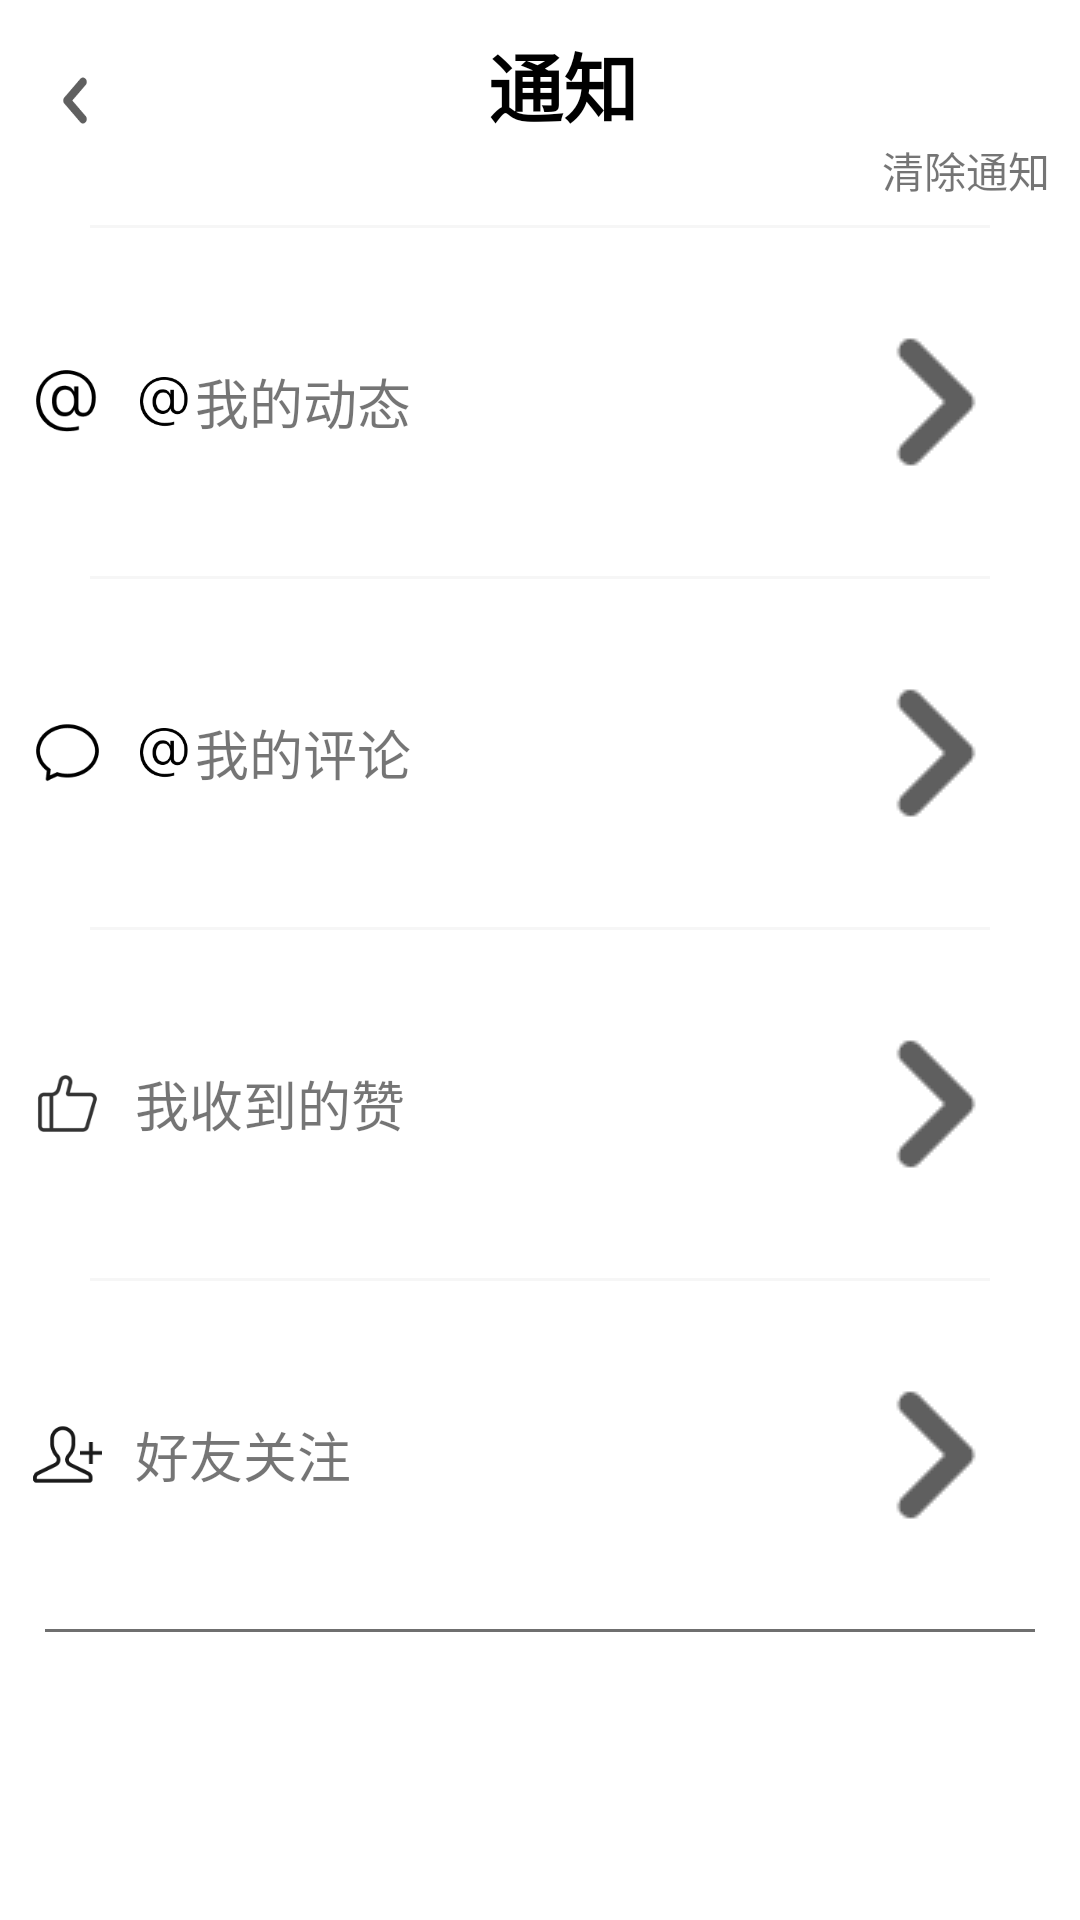

Screen size 1080w x 1920h. Icon name, then its center in pixels as (x,y):
agreed: (67,1103)
friend add: (67,1454)
mention: (66,401), (164,401), (164,752)
message: (67,752)
right arrow: (936,402), (936,753), (936,1104), (936,1455)
